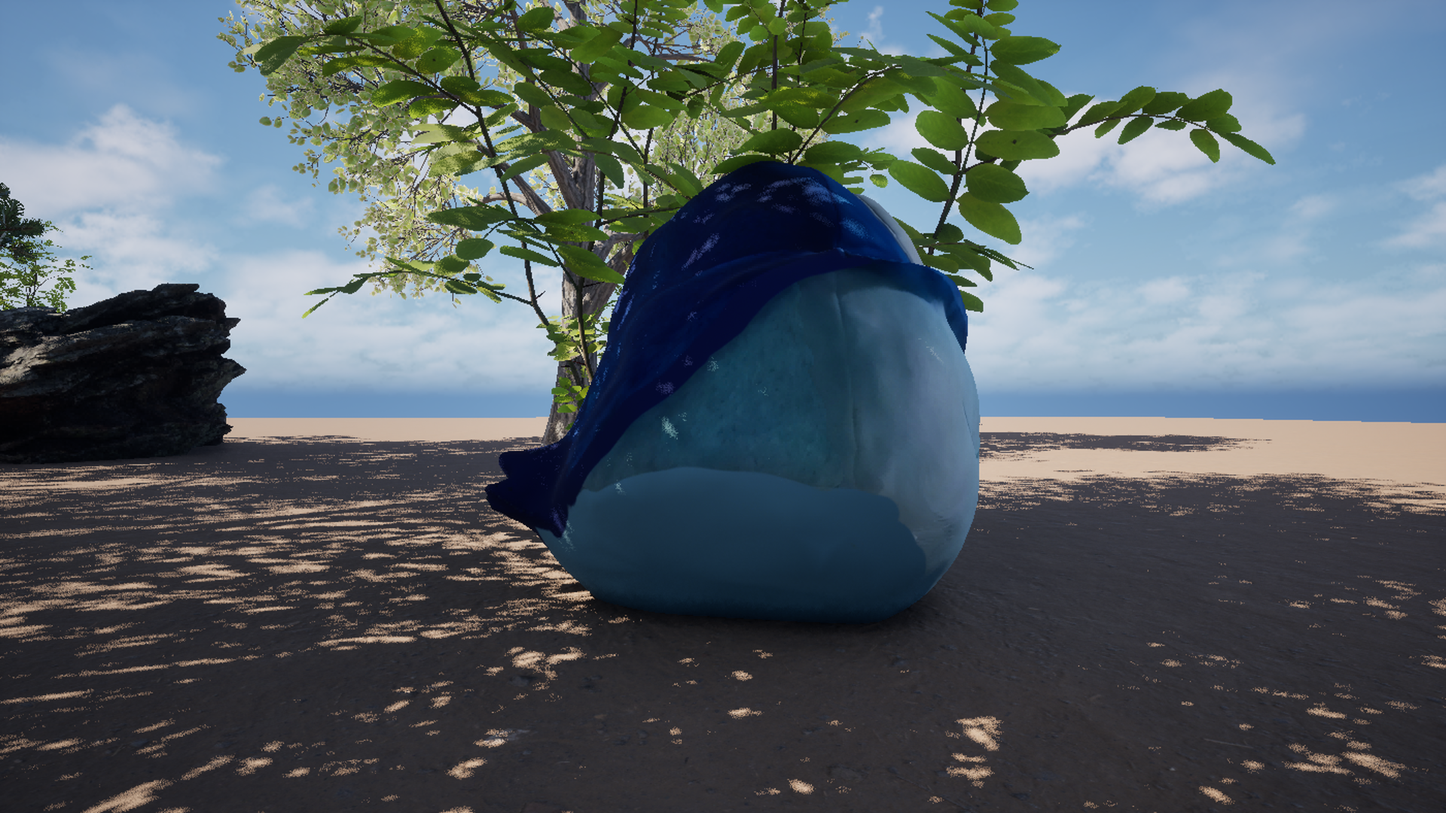Piplup: (381, 0, 1145, 813)
